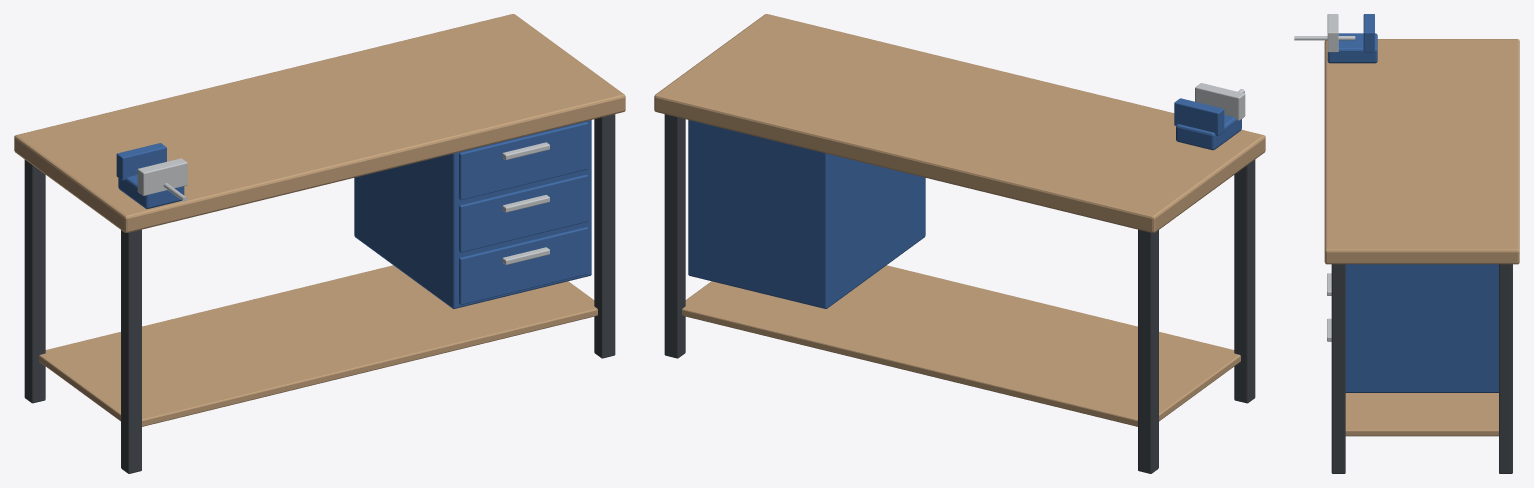
File: Env_Workbench.fbx
3 views of the same model, side by side, from view 1: azimuth 30°, elevation 25°; view 2: azimuth 150°, elevation 25°; view 3: azimuth 270°, elevation 25° (orthographic). The views are drawn at different scales.
Visible parts, largest first — view 1: Env_Bench_Top, Env_Bench_Shelf, Env_Bench_Cabinet, Env_Bench_Drawer0, Env_Bench_Drawer1, Env_Bench_Drawer2, Env_Bench_Leg1.750.05, Env_Bench_Leg0.050.65, Env_Bench_Leg0.050.05, Env_Bench_ViseJawA, Env_Bench_ViseJawB, Env_Bench_ViseBase; view 2: Env_Bench_Top, Env_Bench_Shelf, Env_Bench_Cabinet, Env_Bench_Leg1.750.65, Env_Bench_Leg0.050.05, Env_Bench_Leg0.050.65, Env_Bench_ViseJawB, Env_Bench_ViseBase, Env_Bench_ViseJawA; view 3: Env_Bench_Top, Env_Bench_Cabinet, Env_Bench_Shelf, Env_Bench_Leg1.750.05, Env_Bench_Leg1.750.65, Env_Bench_ViseBase, Env_Bench_ViseJawA, Env_Bench_ViseJawB, Env_Bench_ViseScrew.
Part boxes in pixels (bbox=[...]): Env_Bench_Top: bbox=[14, 14, 625, 232]; Env_Bench_Shelf: bbox=[39, 265, 597, 426]; Env_Bench_Cabinet: bbox=[354, 120, 591, 308]; Env_Bench_Drawer0: bbox=[459, 122, 588, 200]; Env_Bench_Drawer1: bbox=[459, 174, 588, 252]; Env_Bench_Drawer2: bbox=[459, 227, 588, 304]; Env_Bench_Leg1.750.05: bbox=[594, 114, 615, 358]; Env_Bench_Leg0.050.65: bbox=[24, 159, 45, 403]; Env_Bench_Leg0.050.05: bbox=[121, 229, 141, 473]; Env_Bench_ViseJawA: bbox=[137, 158, 187, 195]; Env_Bench_ViseJawB: bbox=[116, 143, 166, 180]; Env_Bench_ViseBase: bbox=[118, 175, 184, 208]; Env_Bench_Top: bbox=[654, 14, 1265, 232]; Env_Bench_Shelf: bbox=[682, 265, 1240, 426]; Env_Bench_Cabinet: bbox=[688, 120, 925, 308]; Env_Bench_Leg1.750.65: bbox=[664, 114, 685, 358]; Env_Bench_Leg0.050.05: bbox=[1234, 159, 1255, 403]; Env_Bench_Leg0.050.65: bbox=[1138, 229, 1158, 473]; Env_Bench_ViseJawB: bbox=[1174, 98, 1224, 135]; Env_Bench_ViseBase: bbox=[1176, 115, 1241, 150]; Env_Bench_ViseJawA: bbox=[1195, 83, 1245, 120]; Env_Bench_Top: bbox=[1324, 39, 1519, 264]; Env_Bench_Cabinet: bbox=[1345, 264, 1498, 392]; Env_Bench_Shelf: bbox=[1345, 393, 1498, 436]; Env_Bench_Leg1.750.05: bbox=[1331, 264, 1345, 473]; Env_Bench_Leg1.750.65: bbox=[1499, 264, 1512, 473]; Env_Bench_ViseBase: bbox=[1327, 33, 1377, 63]; Env_Bench_ViseJawA: bbox=[1327, 14, 1338, 52]; Env_Bench_ViseJawB: bbox=[1363, 14, 1374, 52]; Env_Bench_ViseScrew: bbox=[1294, 36, 1355, 40].
Bounding box in the file's own units: 1.8 × 1.03 × 0.81.
